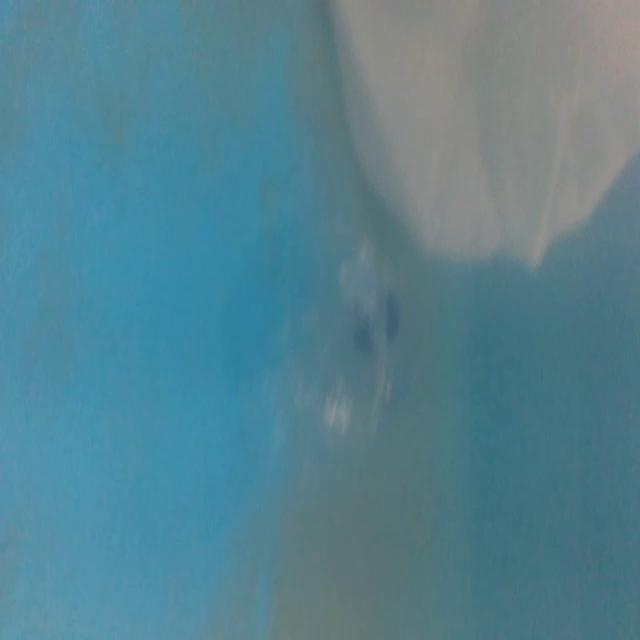plastic bags: (332, 0, 640, 269)
